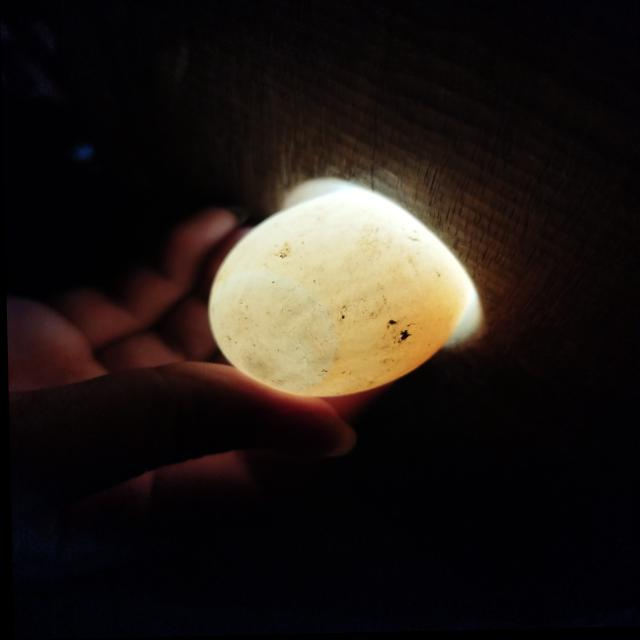Camara de Ar: (207, 273, 335, 394)
